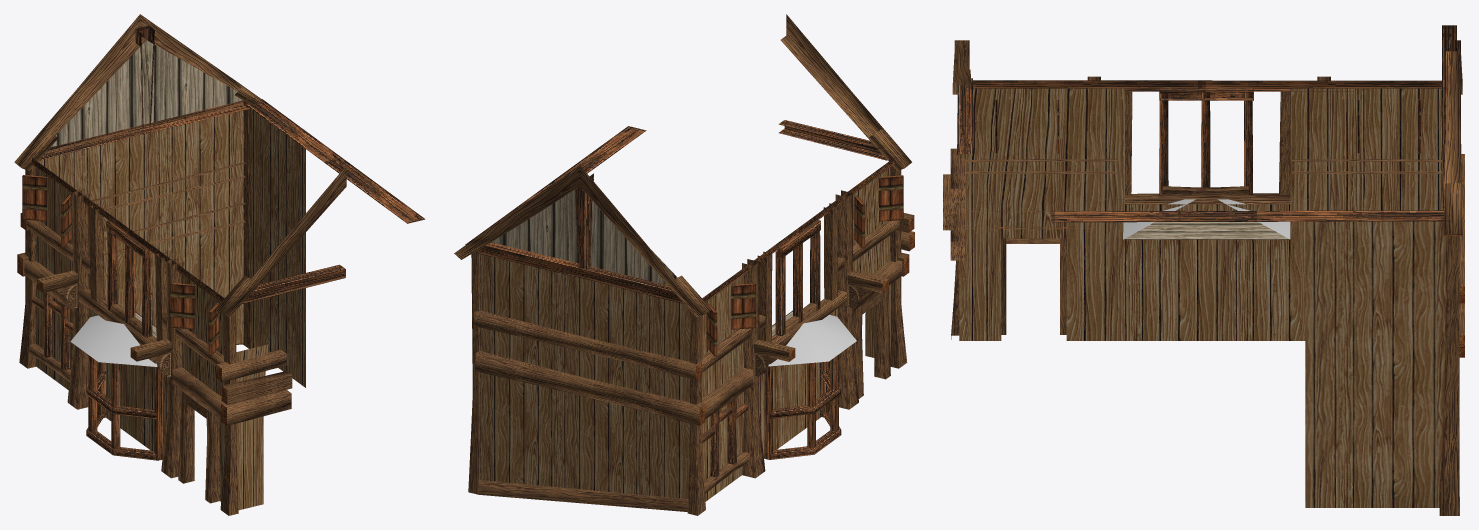
File: LAKETOWN_EXTERIOR_PS_LT_GRANDMA_63534__GX.obj
3 renders of one model, left to right at view 1: azimuth 30°, elevation 25°; view 2: azimuth 150°, elevation 25°; view 3: azimuth 270°, elevation 25°, orthographic. The views are drawn at different scales.
Visible parts, largest first — view 1: andMa_63534__GX; view 2: andMa_63534__GX; view 3: andMa_63534__GX.
Part boxes in pixels (x1,y1,x2,y2): andMa_63534__GX: (14,14,425,515); andMa_63534__GX: (454,14,914,515); andMa_63534__GX: (943,25,1464,515).
Bounding box in the file's own units: 853 × 1017 × 1105.
